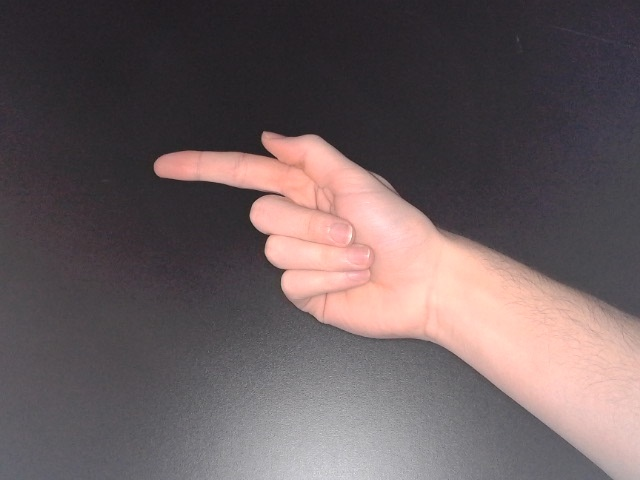g: (150, 127, 460, 355)
